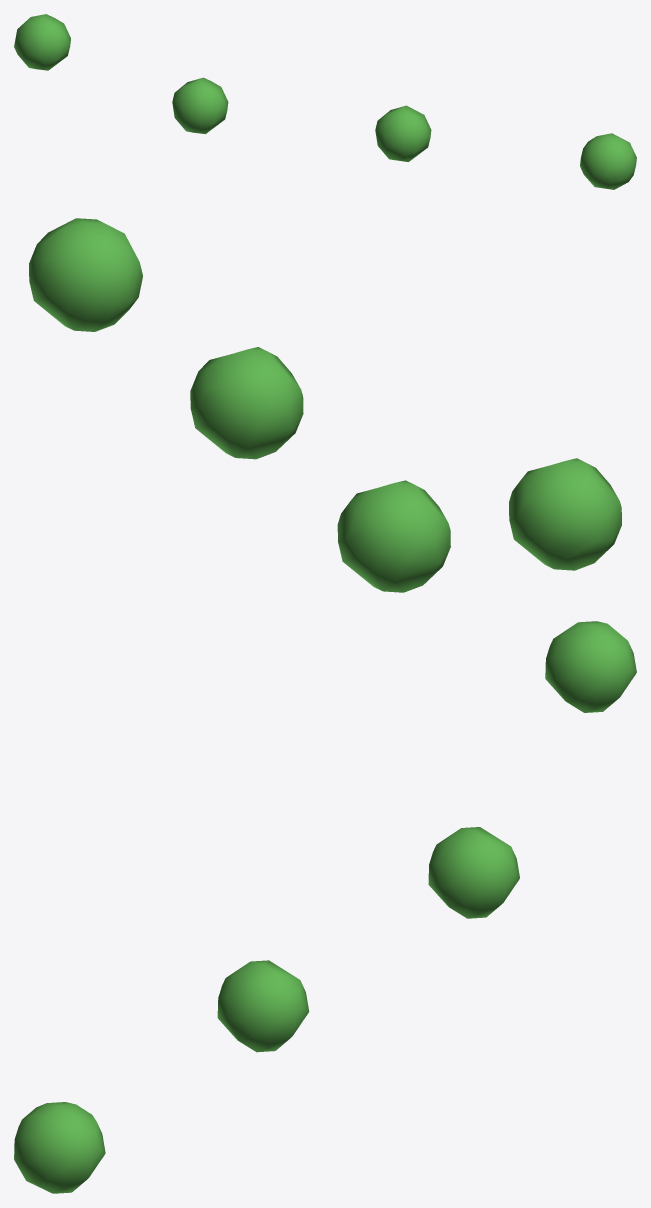
The model's file is linfatico-submental-nodes-r.glb.
3 views of the same model, one above another, from view 1: azimuth 30°, elevation 25°; view 2: azimuth 150°, elevation 25°; view 3: azimuth 270°, elevation 25° (orthographic). The views are drawn at different scales.
Parts seen in each view (by area): view 1: Submental nodes.r; view 2: Submental nodes.r; view 3: Submental nodes.r.
Boxes of the visible parts, box(x1,y1,x2,y2) form: Submental nodes.r: box(14, 14, 636, 189); Submental nodes.r: box(29, 218, 621, 592); Submental nodes.r: box(14, 621, 636, 1193).
Bounding box in the file's own units: 0.0235 × 0.00748 × 0.0172.
